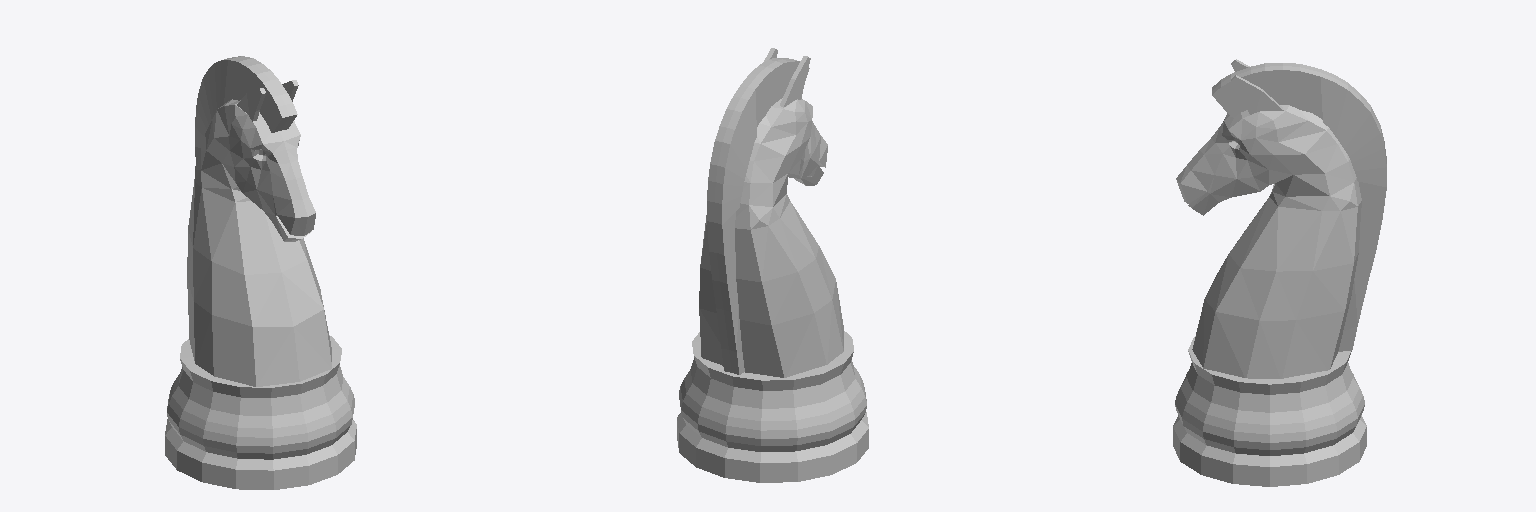
Rendered from Knight.obj.
3 views of the same model, side by side, from view 1: azimuth 30°, elevation 25°; view 2: azimuth 150°, elevation 25°; view 3: azimuth 270°, elevation 25° (orthographic).
Parts seen in each view (by area): view 1: Circle; view 2: Circle; view 3: Circle.
Part boxes in pixels (x1,y1,x2,y2): Circle: (165, 56, 356, 489); Circle: (677, 48, 868, 482); Circle: (1173, 59, 1386, 486).
Bounding box in the file's own units: 2 × 4.33 × 2.21.